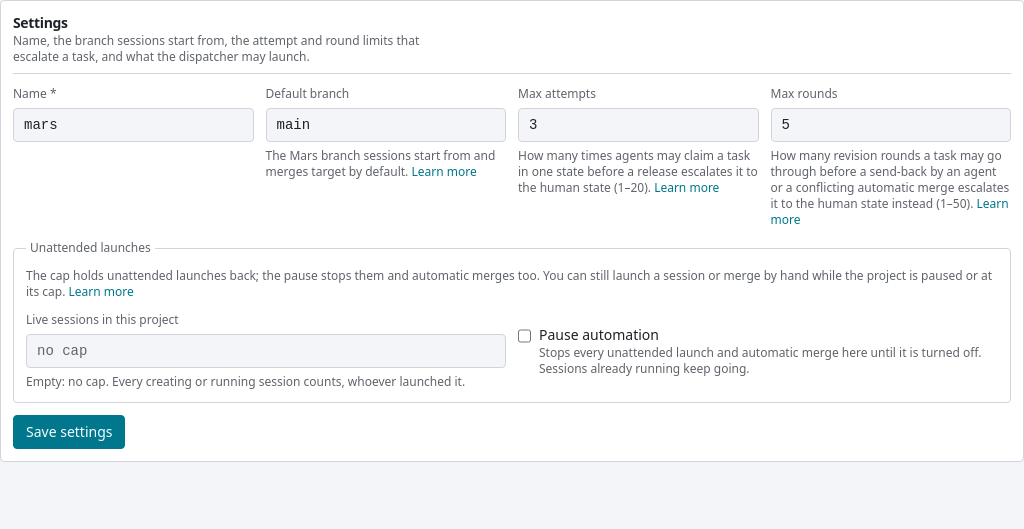
Test: ProjectSettingsForm › shows the server's refusal and drops it when the form is edited
The width and height of the screenshot is (1024, 529).
Replace the text in the field labelled "Name *" with "taken" at {"x": 133, "y": 125}, box [13,108,254,142]
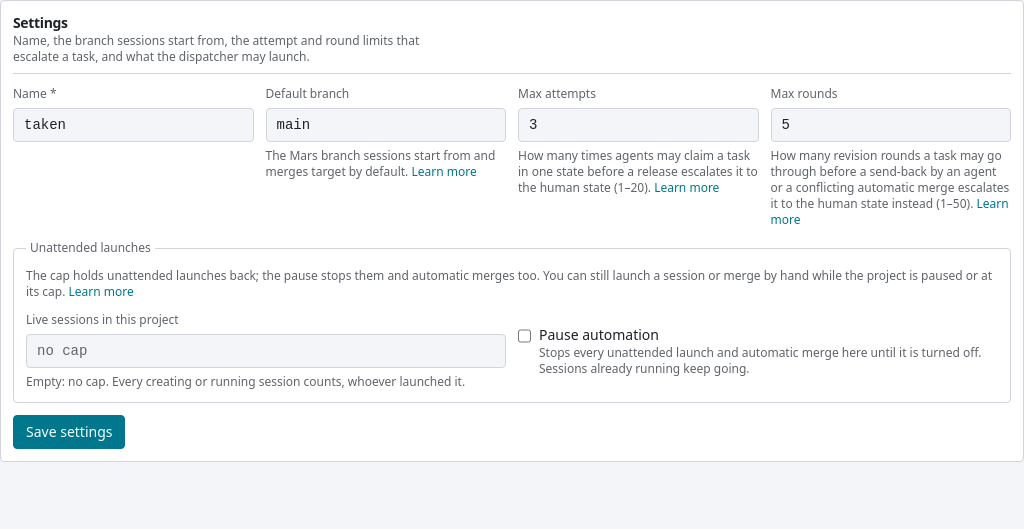
Click the button "Save settings" at {"x": 69, "y": 432}, box [13,415,126,449]
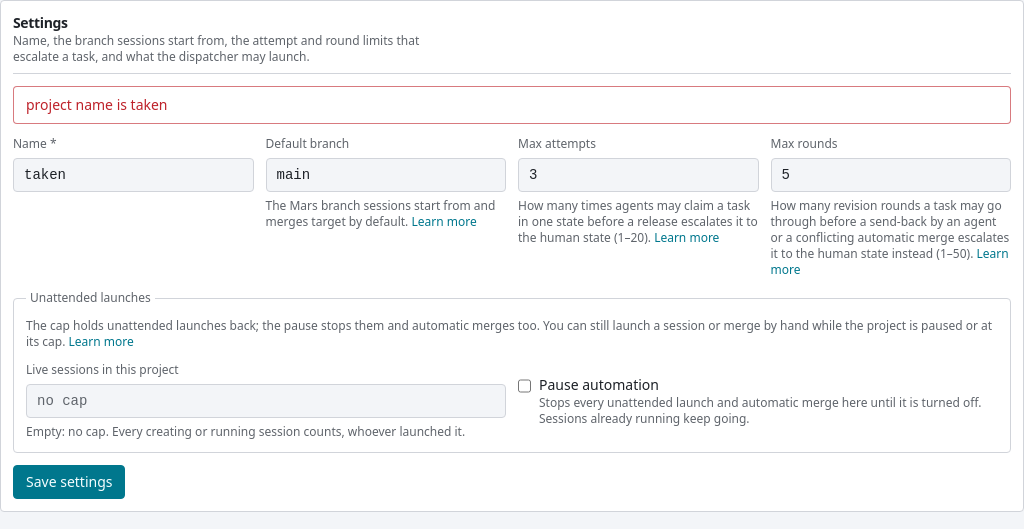
Now the text "project name is taken" is shown, box [26,95,168,114]
Replace the text in the field labelled "Name *" with "free" at {"x": 133, "y": 175}, box [13,158,254,192]
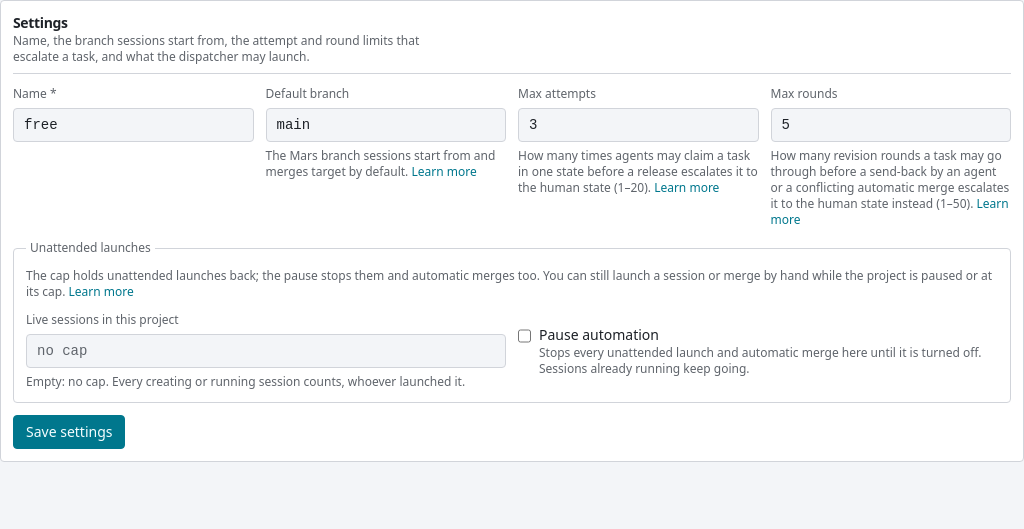
Now the text "project name is taken" is gone
